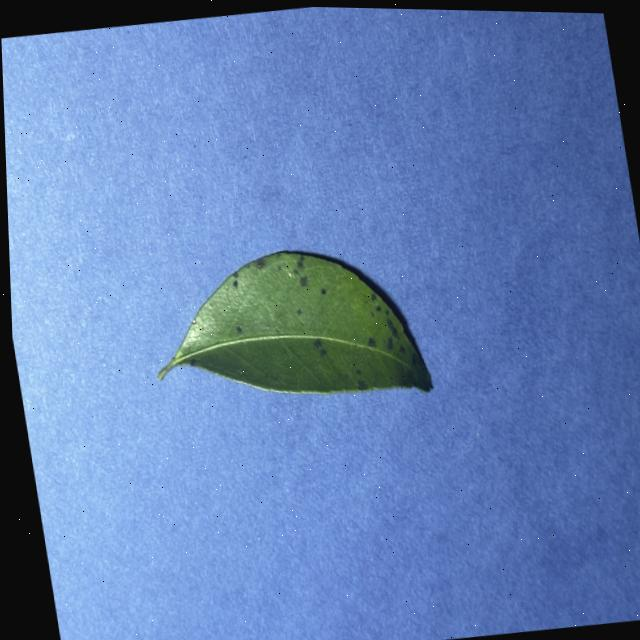sooty_mold: (158, 251, 430, 392)
